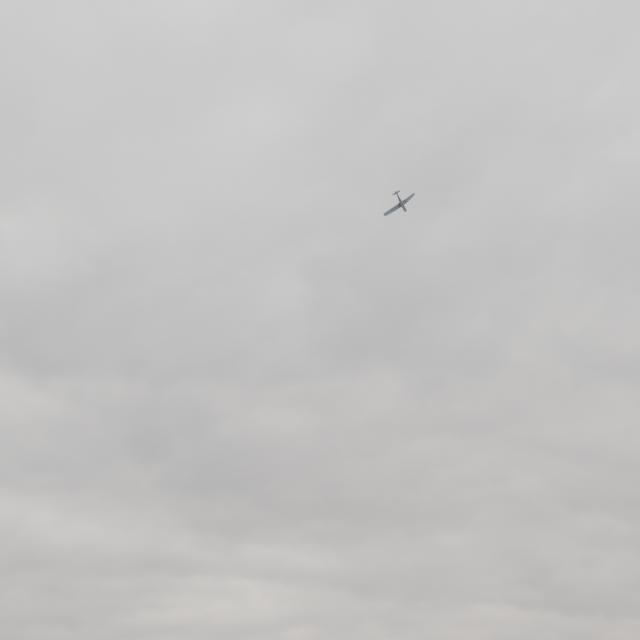Airaplan: (383, 190, 415, 216)
